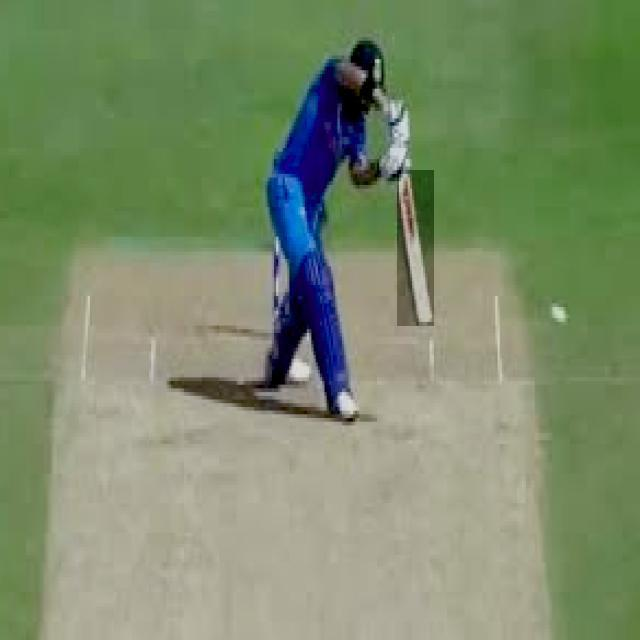bat: (395, 169, 436, 329)
toe: (405, 316, 446, 330)
